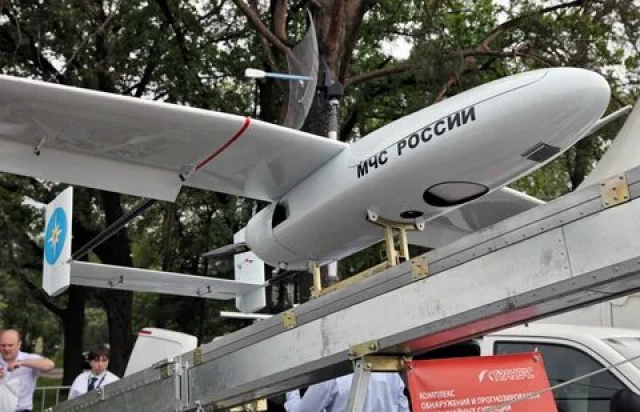military drone: (0, 66, 640, 296)
